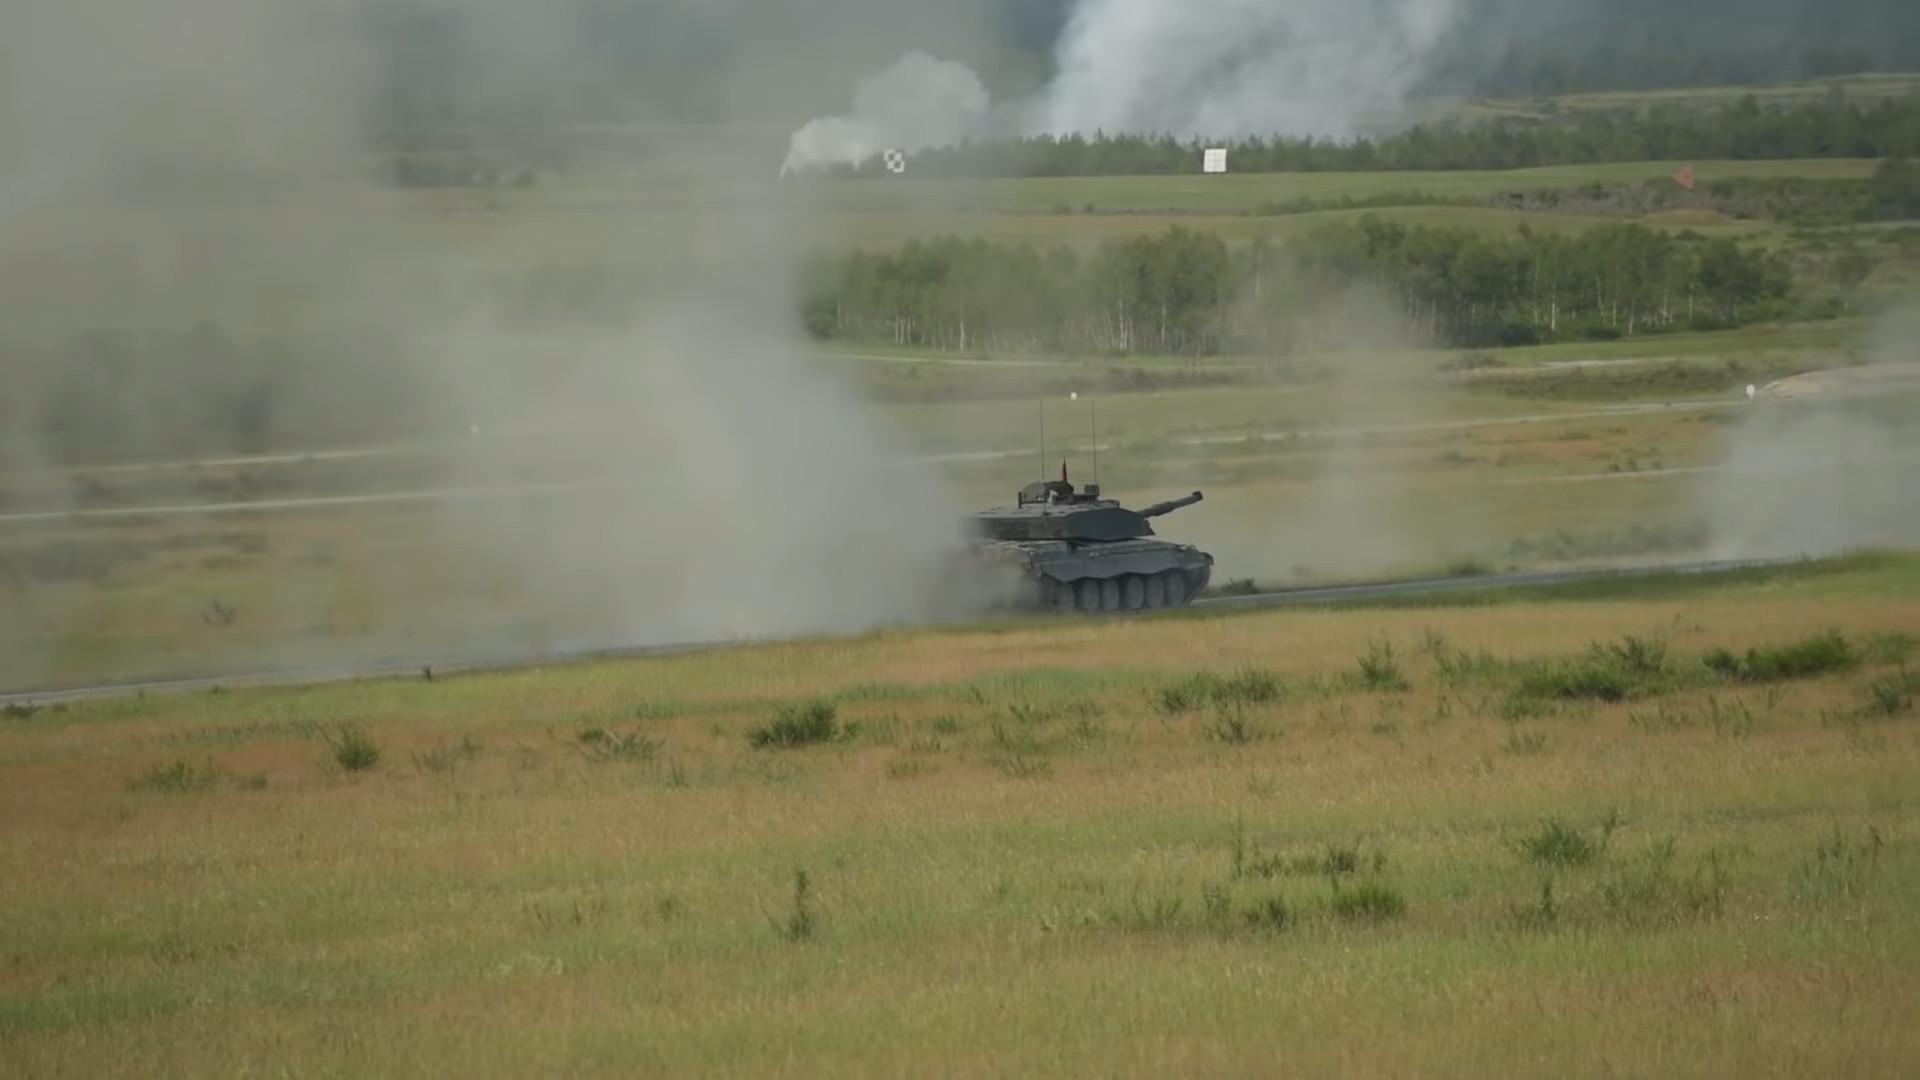tank: (956, 481, 1215, 616)
